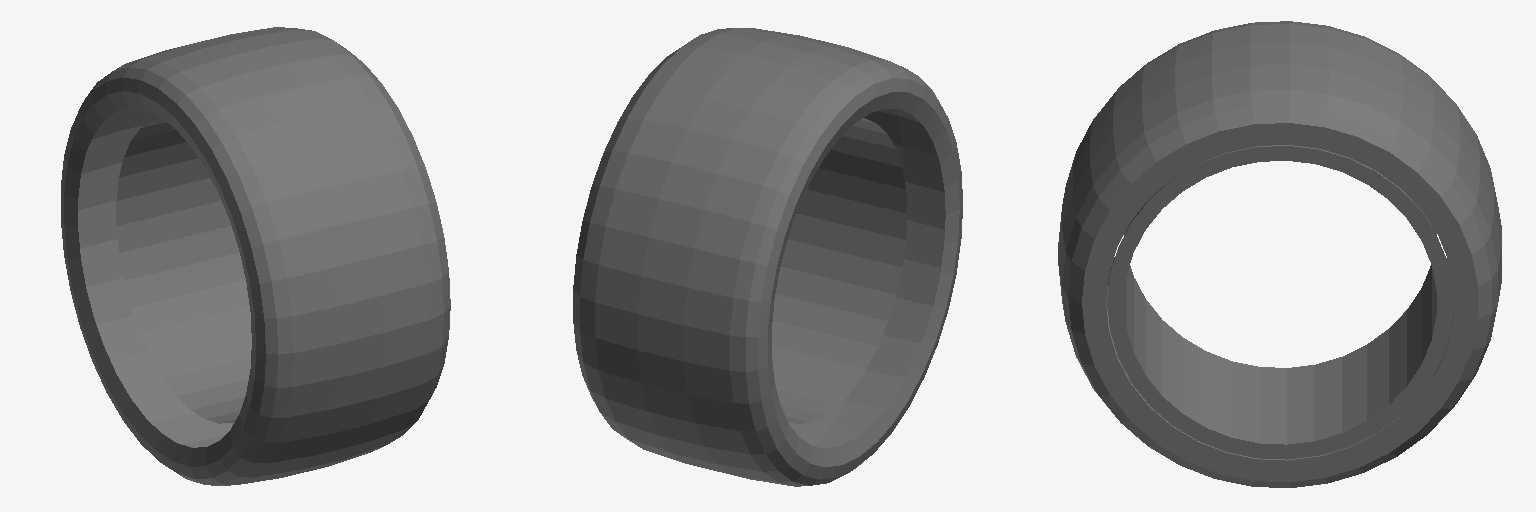
The model's file is Llanta4_Carro.obj.
The picture shows the model from 3 angles: view 1: azimuth 30°, elevation 25°; view 2: azimuth 150°, elevation 25°; view 3: azimuth 270°, elevation 25°; orthographic projection.
Parts seen in each view (by area): view 1: Llanta4_Carro; view 2: Llanta4_Carro; view 3: Llanta4_Carro.
Boxes of the visible parts, x1=… form: Llanta4_Carro: x1=61, y1=27, x2=450, y2=485; Llanta4_Carro: x1=573, y1=28, x2=962, y2=486; Llanta4_Carro: x1=1058, y1=21, x2=1501, y2=487.
Bounding box in the file's own units: 11.16 × 22.38 × 22.36.